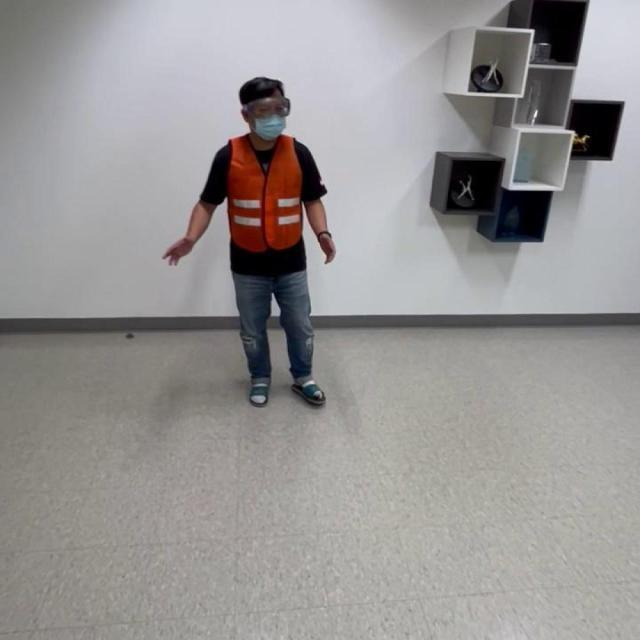bare_hand: (159, 234, 197, 268), (315, 230, 337, 265)
